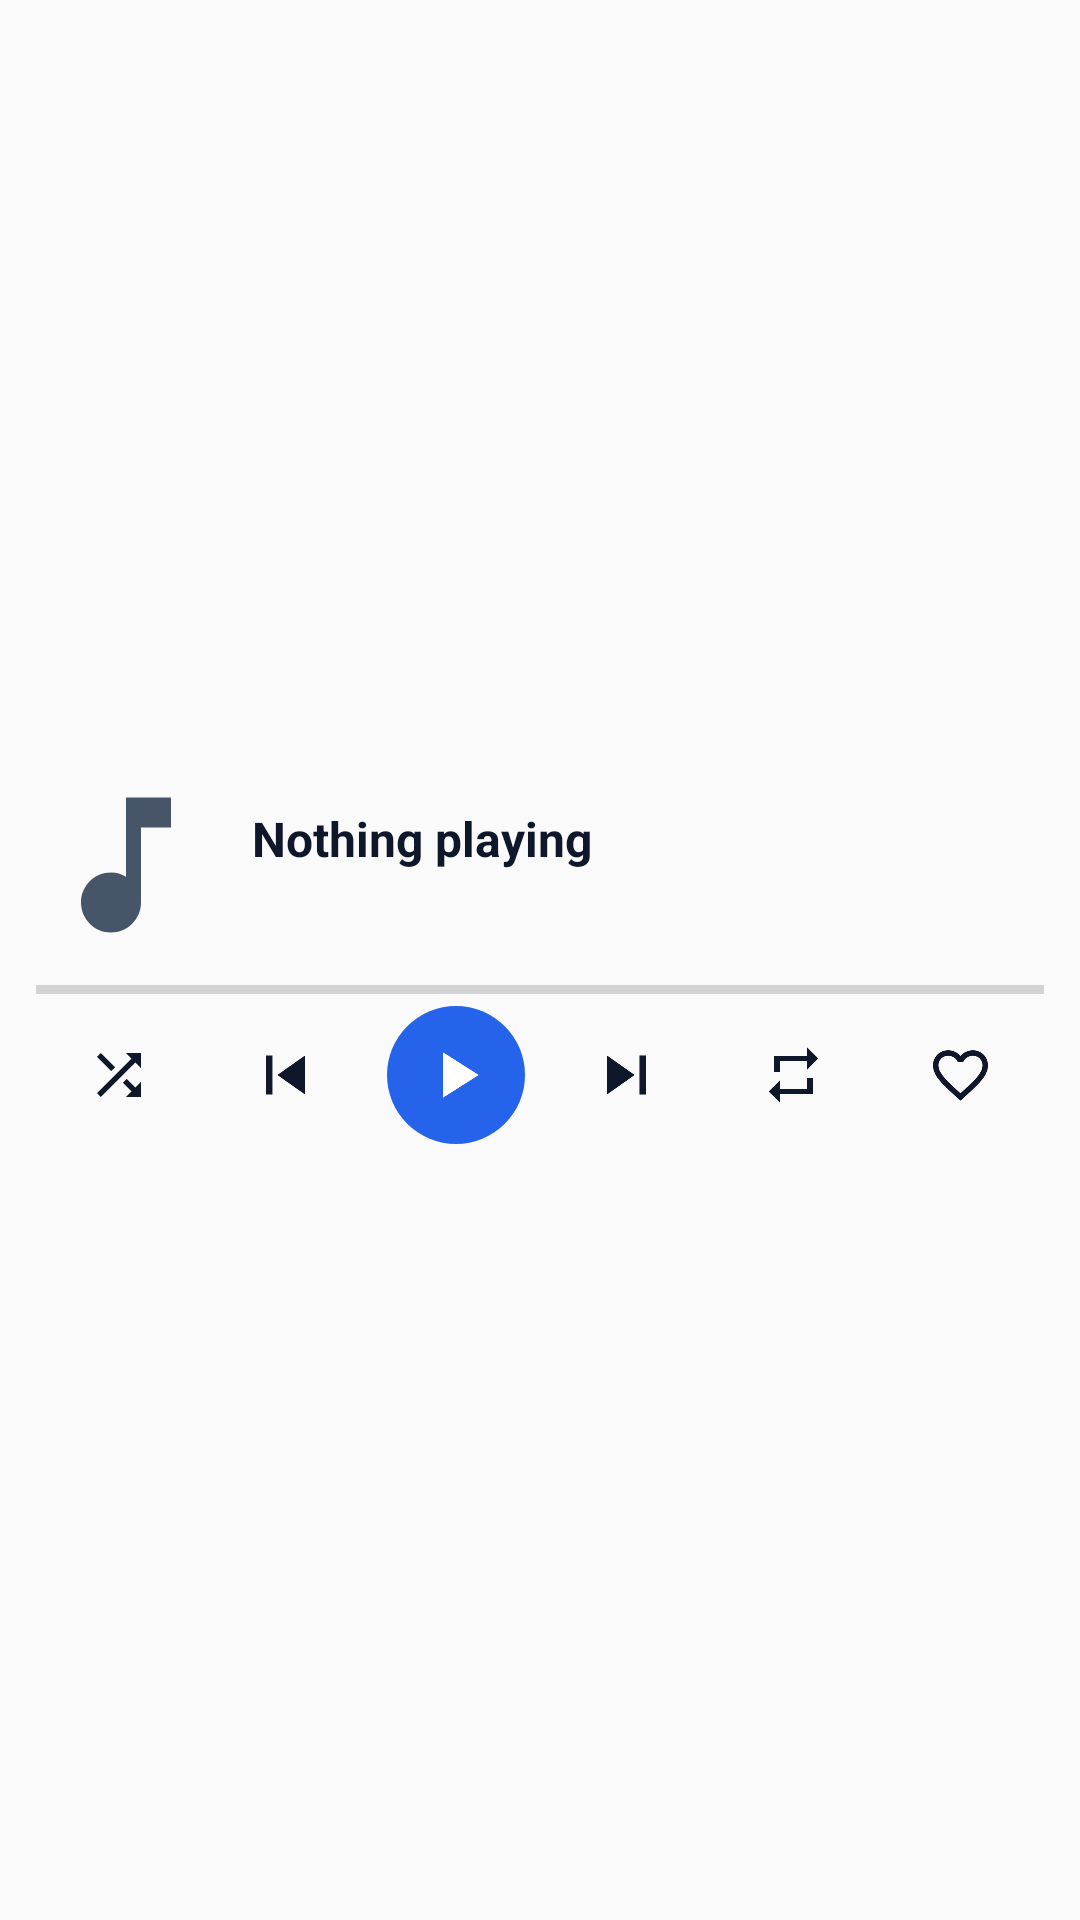

Screen size 1080x1920. Icon name, then its center in pixels as point (x, y):
Favorite: point (960, 1075)
Next: point (626, 1075)
Play or pause: point (456, 1075)
Previous: point (285, 1075)
Repeat: point (793, 1075)
Shuffle: point (119, 1075)
Tap to open Wild Music Player: point (126, 865)
